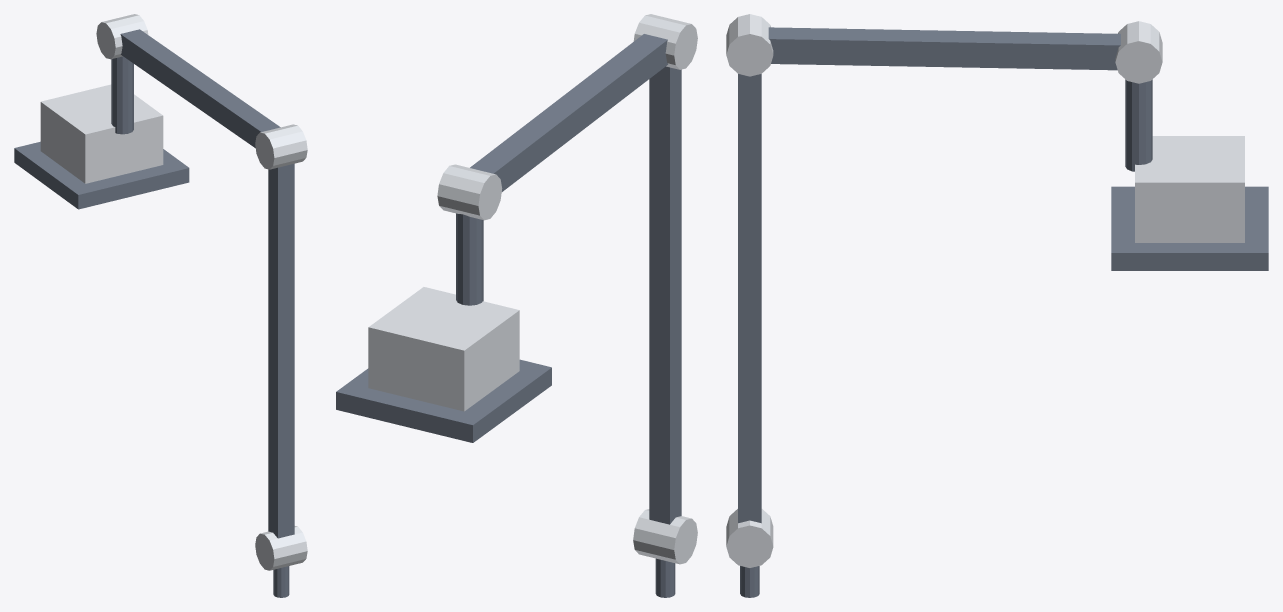
Rendered from Inst_Soil.glb.
3 views of the same model, side by side, from view 1: azimuth 30°, elevation 25°; view 2: azimuth 150°, elevation 25°; view 3: azimuth 270°, elevation 25° (orthographic). The views are drawn at different scales.
Parts seen in each view (by area): view 1: Inst_Soil; view 2: Inst_Soil; view 3: Inst_Soil.
Part boxes in pixels (x1,y1,x2,y2): Inst_Soil: (14, 14, 307, 597); Inst_Soil: (336, 14, 697, 597); Inst_Soil: (726, 14, 1268, 597).
Size of the model in its own units: 0.4 by 1.6 by 1.38.
